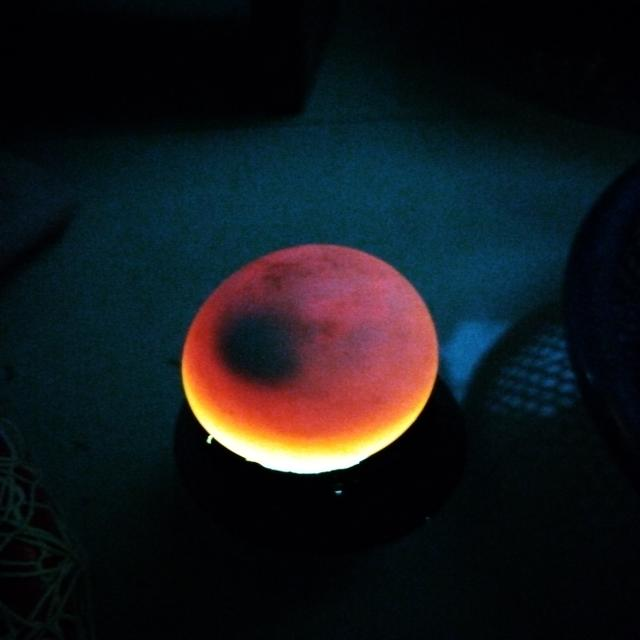Area Infectada: (209, 290, 321, 390)
